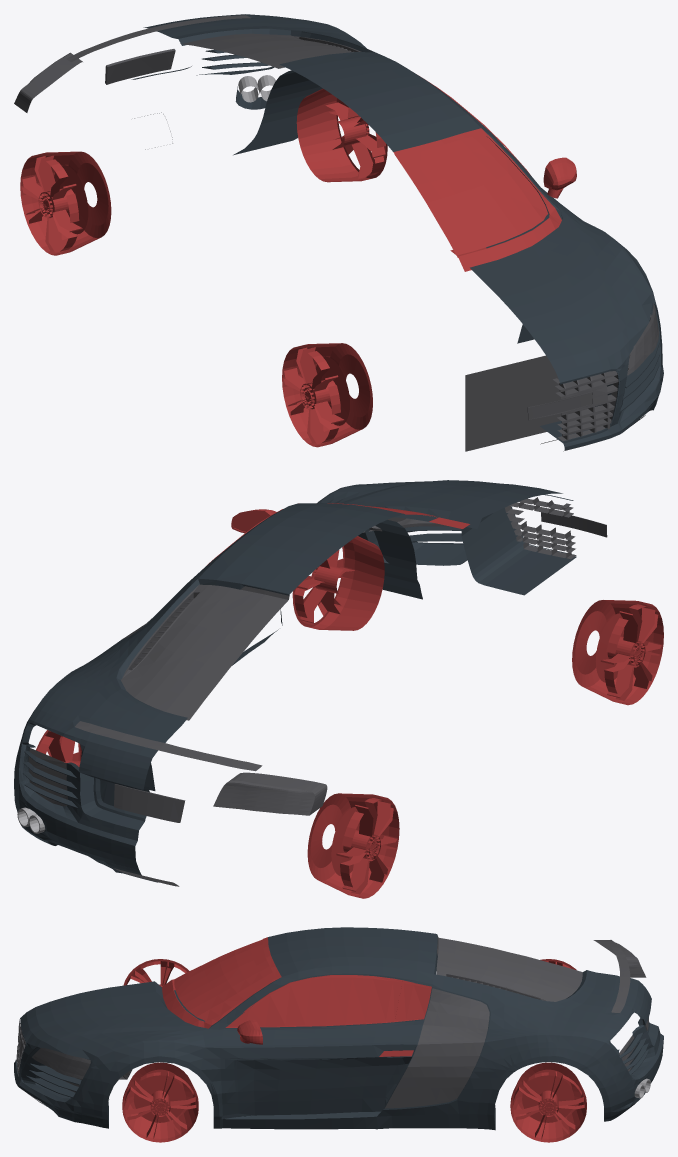
The model's file is AudiR8.glb.
The picture shows the model from 3 angles, top to bottom: view 1: azimuth 30°, elevation 25°; view 2: azimuth 150°, elevation 25°; view 3: azimuth 270°, elevation 25°; orthographic projection. The views are drawn at different scales.
Parts seen in each view (by area): view 1: glazing, body_shell, body_shell_4, front_end_2, rear_end_9, front_end, body_shell_2, glazing_1, rear_end_3, rear_end_6, mirrors, rear_end_5 (+3 smaller); view 2: glazing, body_shell, rear_end_9, rear_end_6, front_end, glazing_1, rear_end_5, rear_end_3, rear_end_8, rear_end_7, front_end_1; view 3: glazing, body_shell, roof_1, rear_end_2, rear_end_9, body_shell_4, glazing_1, body_shell_2, front_end_8, roof, rear_end_5, rear_end_6 (+2 smaller).
Boxes of the visible parts, x1,y1,x2,y2 form: glazing: (131, 14, 663, 450); body_shell: (20, 88, 387, 447); body_shell_4: (394, 134, 548, 257); front_end_2: (465, 355, 587, 451); rear_end_9: (180, 33, 350, 68); front_end: (553, 371, 618, 441); body_shell_2: (393, 128, 561, 271); glazing_1: (202, 49, 659, 412); rear_end_3: (105, 50, 175, 84); rear_end_6: (14, 52, 82, 112); mirrors: (543, 157, 576, 198); rear_end_5: (66, 15, 251, 61); glazing: (14, 480, 576, 882); body_shell: (36, 536, 663, 898); rear_end_9: (121, 585, 288, 720); rear_end_6: (213, 772, 327, 815); front_end: (505, 497, 575, 559); glazing_1: (23, 526, 462, 808); rear_end_5: (75, 721, 262, 771); rear_end_3: (114, 786, 182, 822); rear_end_8: (122, 584, 208, 678); rear_end_7: (28, 748, 68, 806); front_end_1: (541, 512, 607, 537); glazing: (14, 927, 663, 1130); body_shell: (122, 959, 586, 1142); roof_1: (247, 975, 431, 1026); rear_end_2: (385, 988, 489, 1108); rear_end_9: (436, 938, 582, 1001); body_shell_4: (174, 939, 274, 1021); glazing_1: (25, 1032, 648, 1097); body_shell_2: (162, 937, 281, 1028); front_end_8: (32, 1048, 90, 1079); roof: (225, 975, 431, 1027); rear_end_5: (611, 947, 630, 1012); rear_end_6: (593, 940, 646, 977).
Size of the model in its own units: 4.06 by 2.45 by 9.13.
